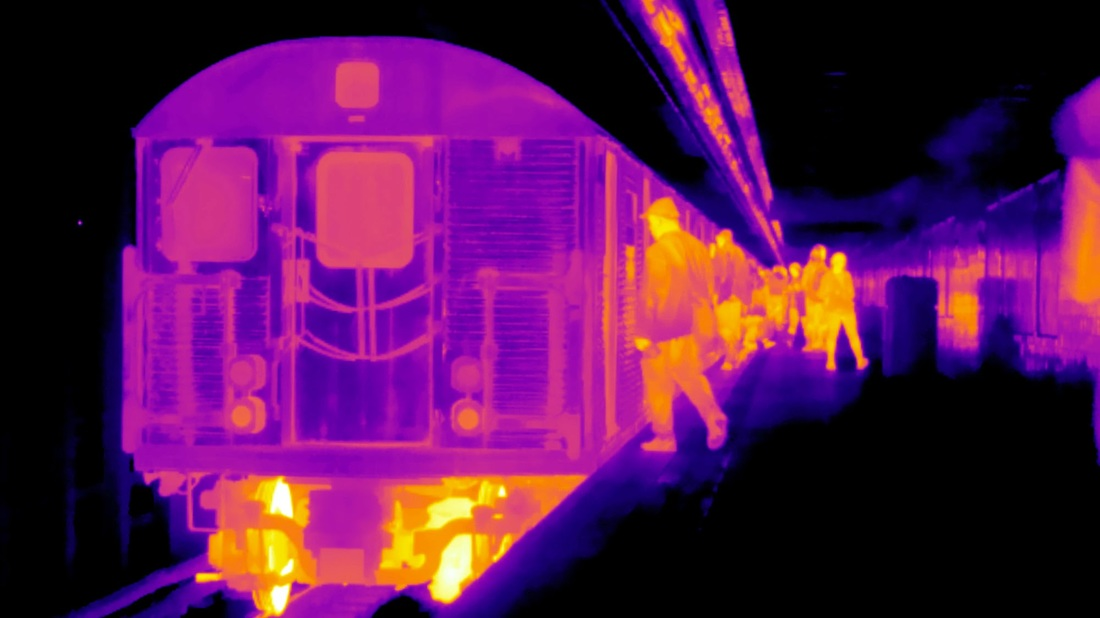person: (625, 190, 730, 461), (816, 238, 874, 387), (704, 219, 762, 368)
train-bogey: (94, 37, 636, 618)
